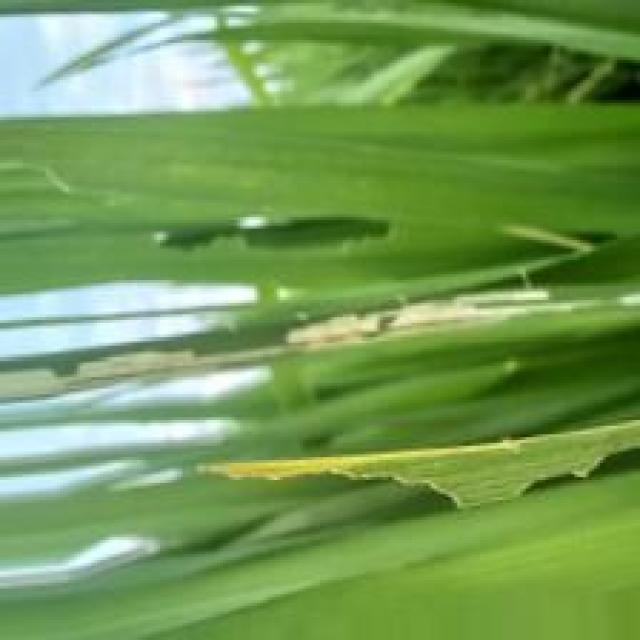Rice_Hispa: (0, 290, 640, 403)
